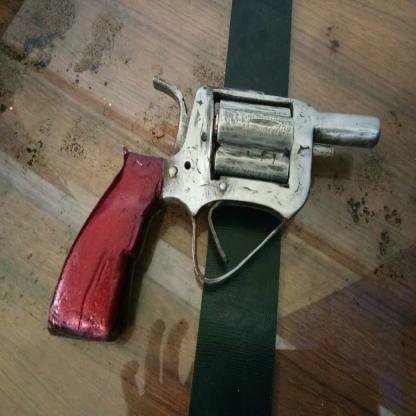handgun: (49, 76, 382, 343)
